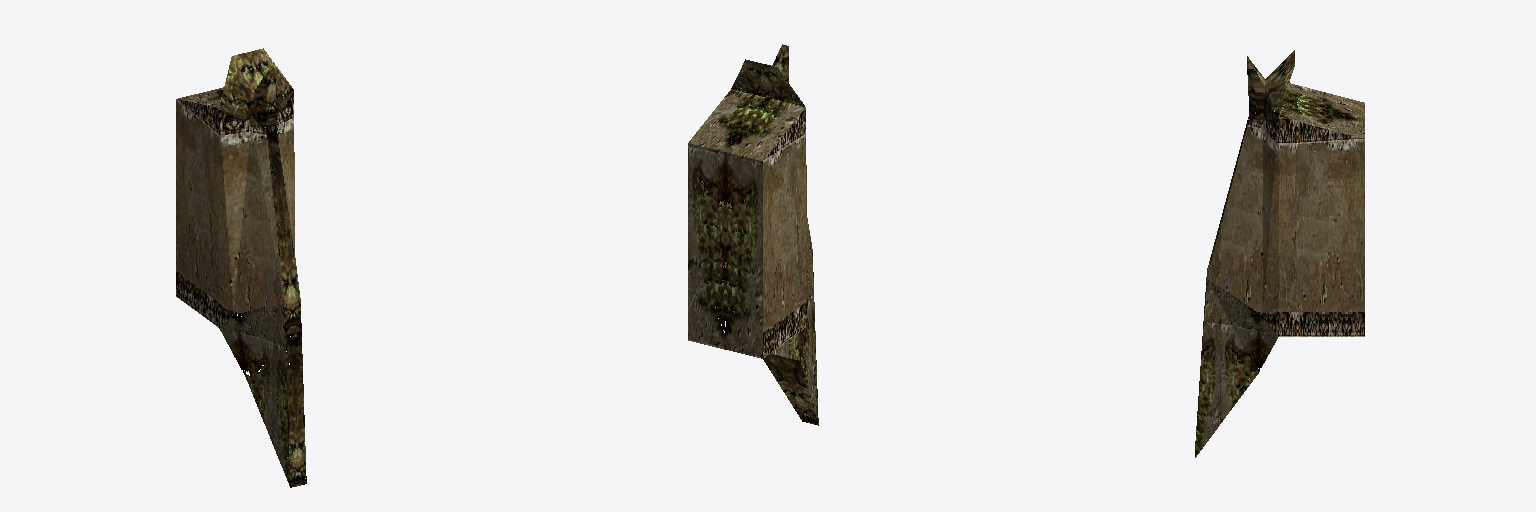
3 renders of one model, left to right at view 1: azimuth 30°, elevation 25°; view 2: azimuth 150°, elevation 25°; view 3: azimuth 270°, elevation 25°, orthographic.
Visible parts, largest first — view 1: Mesh_2, Mesh_1, Mesh_0; view 2: Mesh_0, Mesh_2, Mesh_1; view 3: Mesh_2, Mesh_0, Mesh_1.
Part boxes in pixels (x1,y1,x2,y2): Mesh_2: (176,91,299,327); Mesh_1: (219,48,306,487); Mesh_0: (178,87,306,485); Mesh_0: (688,89,818,424); Mesh_2: (701,106,812,357); Mesh_1: (731,44,818,425); Mesh_2: (1207,95,1364,336); Mesh_0: (1195,83,1364,457); Mesh_1: (1195,50,1294,448).
Bounding box in the file's own units: 1 × 5.08 × 1.97.
Materials: 3 (3 with a texture image).